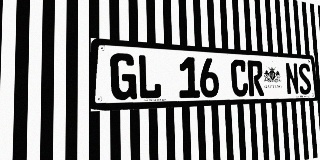1: (178, 56, 200, 98)
6: (199, 58, 219, 98)
C: (230, 59, 249, 97)
G: (110, 53, 137, 100)
L: (137, 54, 162, 99)
N: (285, 62, 300, 95)
R: (247, 60, 264, 96)
S: (298, 63, 312, 95)
